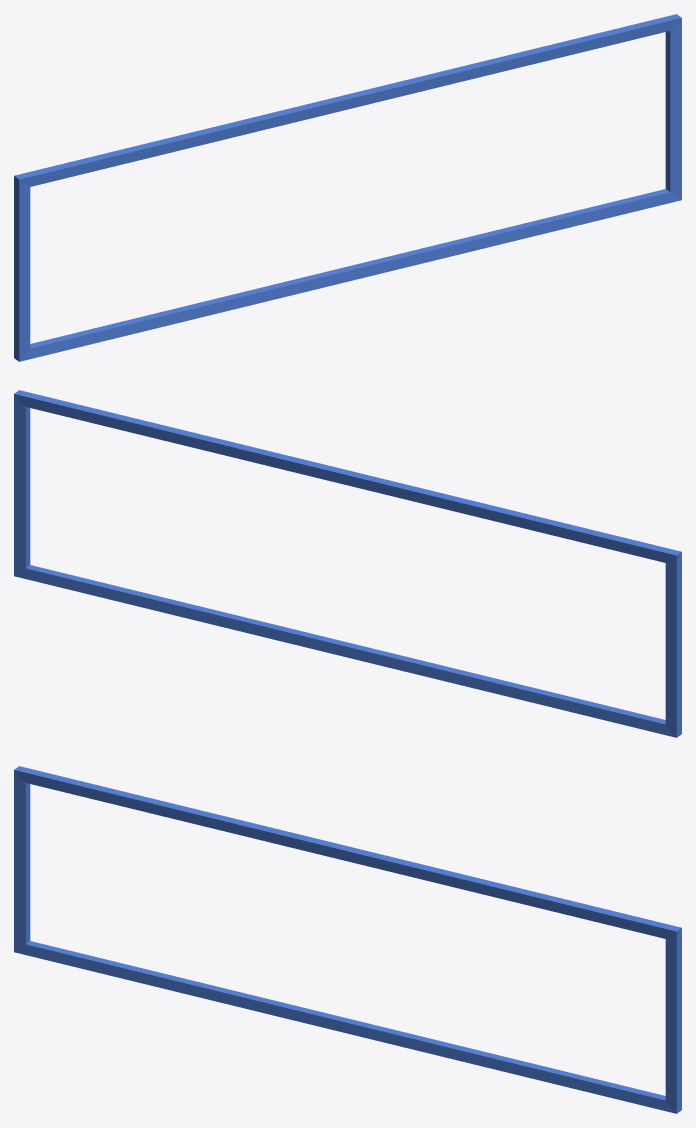
File: 自由に使える柵.fbx
3 renders of one model, top to bottom at view 1: azimuth 30°, elevation 25°; view 2: azimuth 150°, elevation 25°; view 3: azimuth 330°, elevation 25°, orthographic.
Visible parts, largest first — view 1: 立方体; view 2: 立方体; view 3: 立方体.
Part boxes in pixels (<box>): 立方体: <box>14,14,681,361</box>; 立方体: <box>14,390,681,737</box>; 立方体: <box>14,766,681,1113</box>.
Bounding box in the file's own units: 761 × 200 × 10.46.
